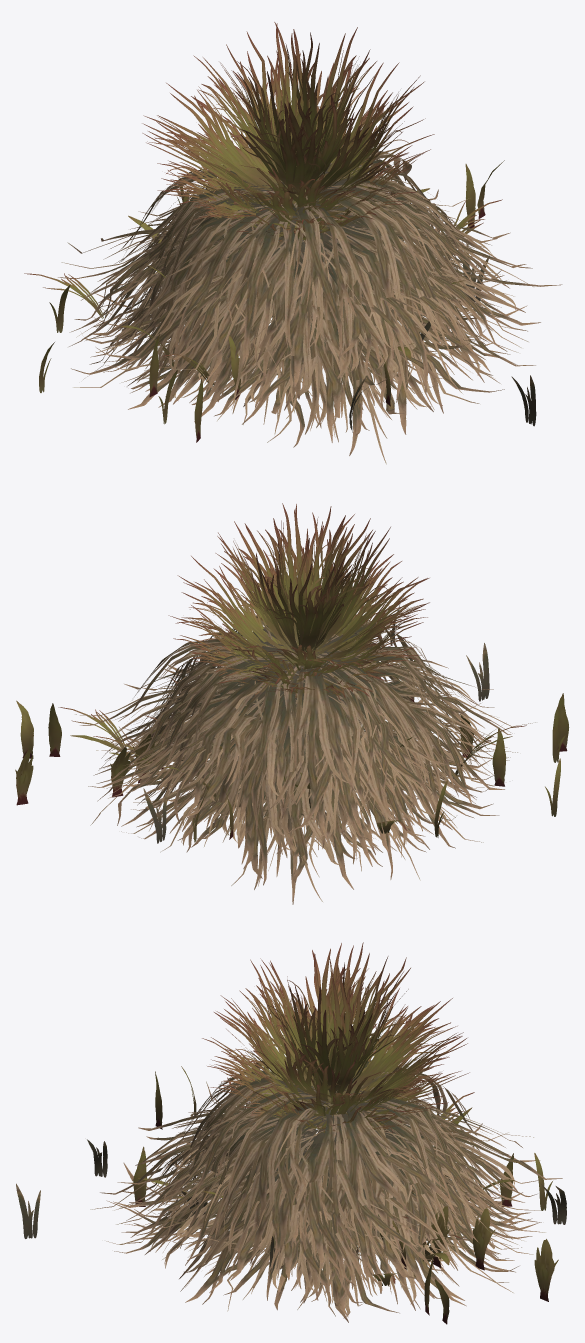
3 views of the same model, one above another, from view 1: azimuth 30°, elevation 25°; view 2: azimuth 150°, elevation 25°; view 3: azimuth 270°, elevation 25° (orthographic). The views are drawn at different scales.
Parts seen in each view (by area): view 1: SM_US_TuftSedge_02_LOD0; view 2: SM_US_TuftSedge_02_LOD0; view 3: SM_US_TuftSedge_02_LOD0.
Boxes of the visible parts, x1,y1,x2,y2 form: SM_US_TuftSedge_02_LOD0: (24, 22, 562, 464); SM_US_TuftSedge_02_LOD0: (15, 503, 569, 904); SM_US_TuftSedge_02_LOD0: (16, 942, 566, 1324).
Bounding box in the file's own units: 1.32 × 0.8165 × 1.3.
1 material, 1 textured.
